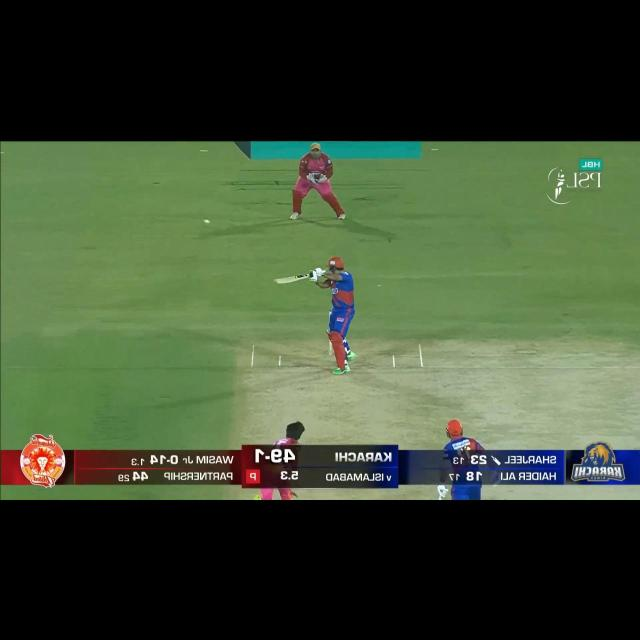bat: (272, 273, 312, 286)
toe: (271, 274, 282, 287)
